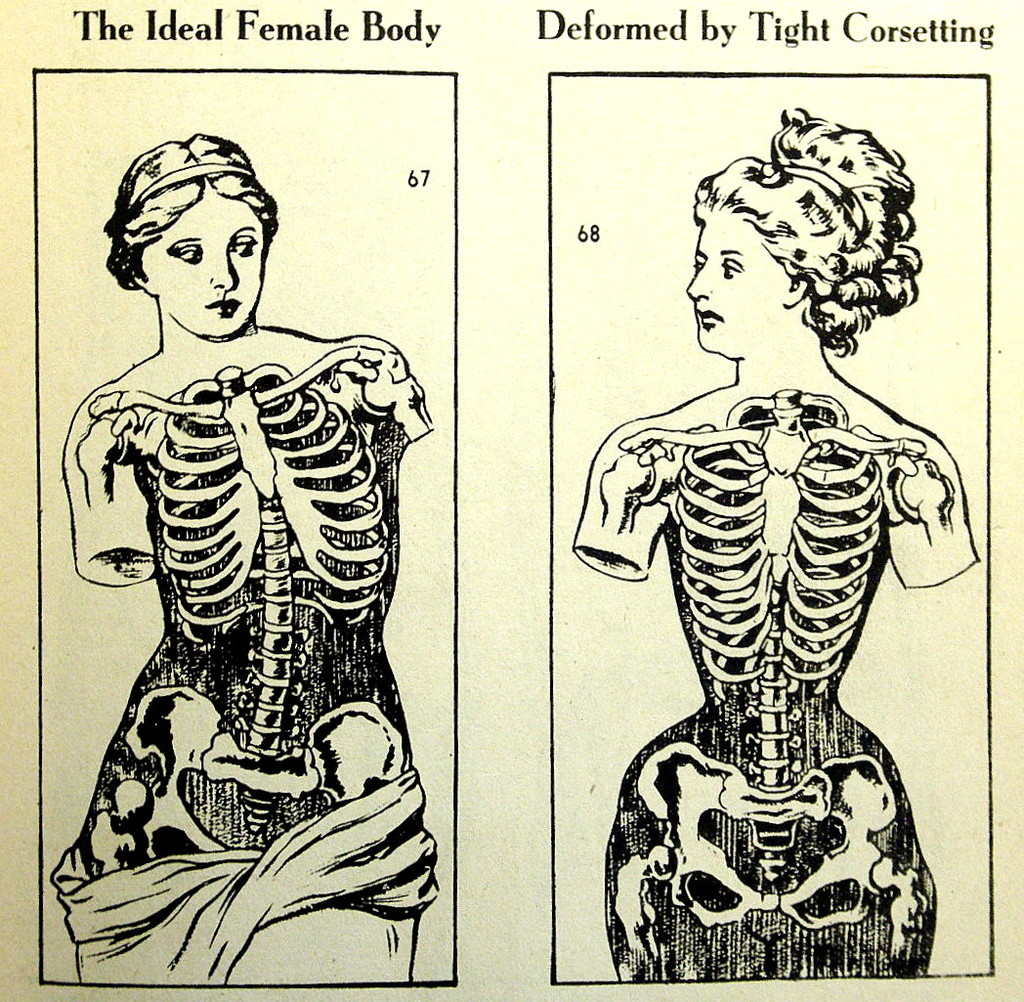Person: (572, 107, 981, 981), (48, 132, 439, 983)
